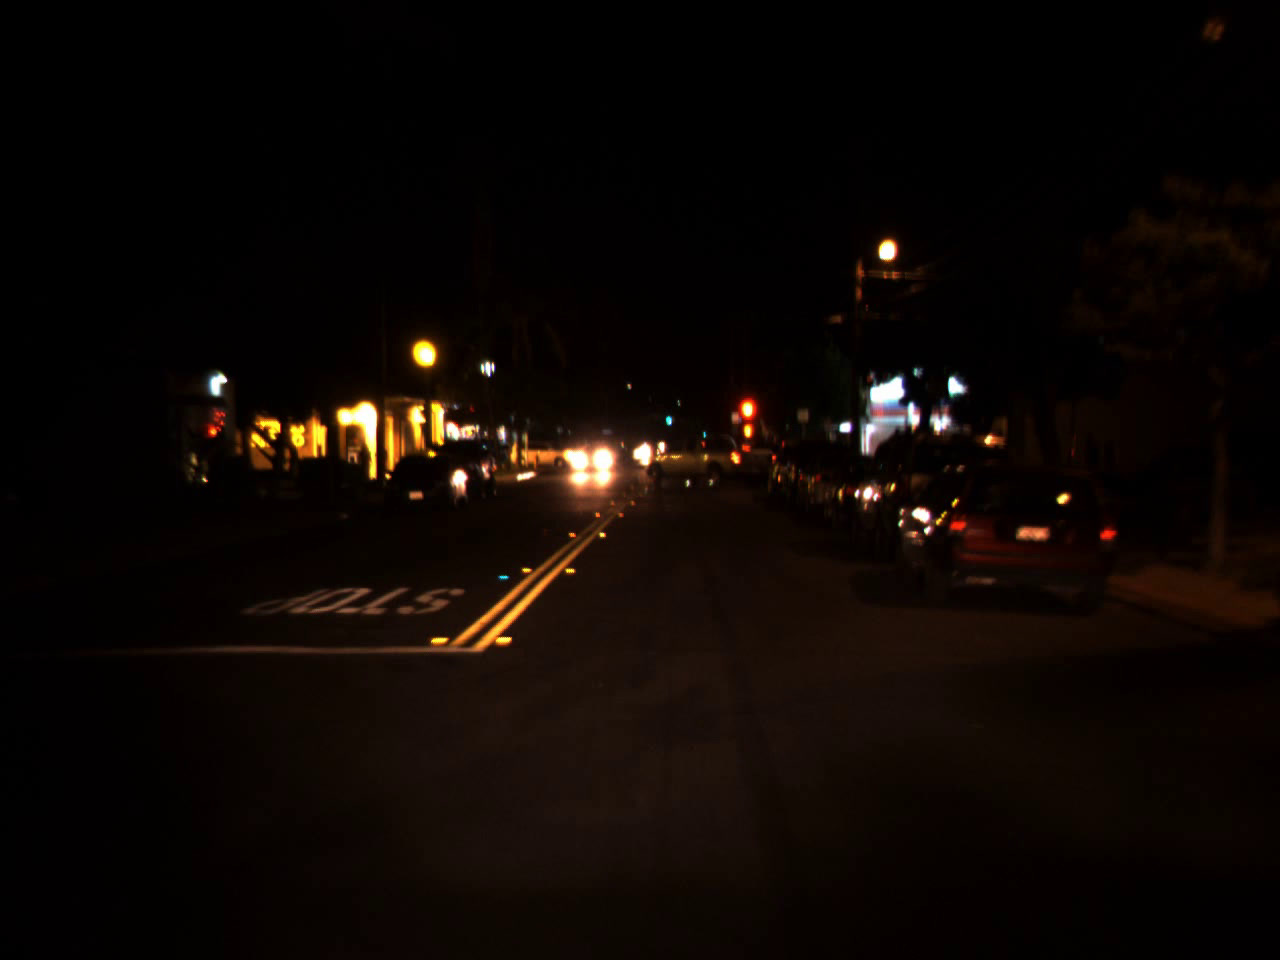go: (663, 408, 672, 426), (701, 424, 708, 439)
stop: (736, 395, 760, 449)
